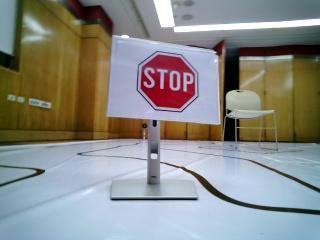stop: (118, 39, 202, 116)
